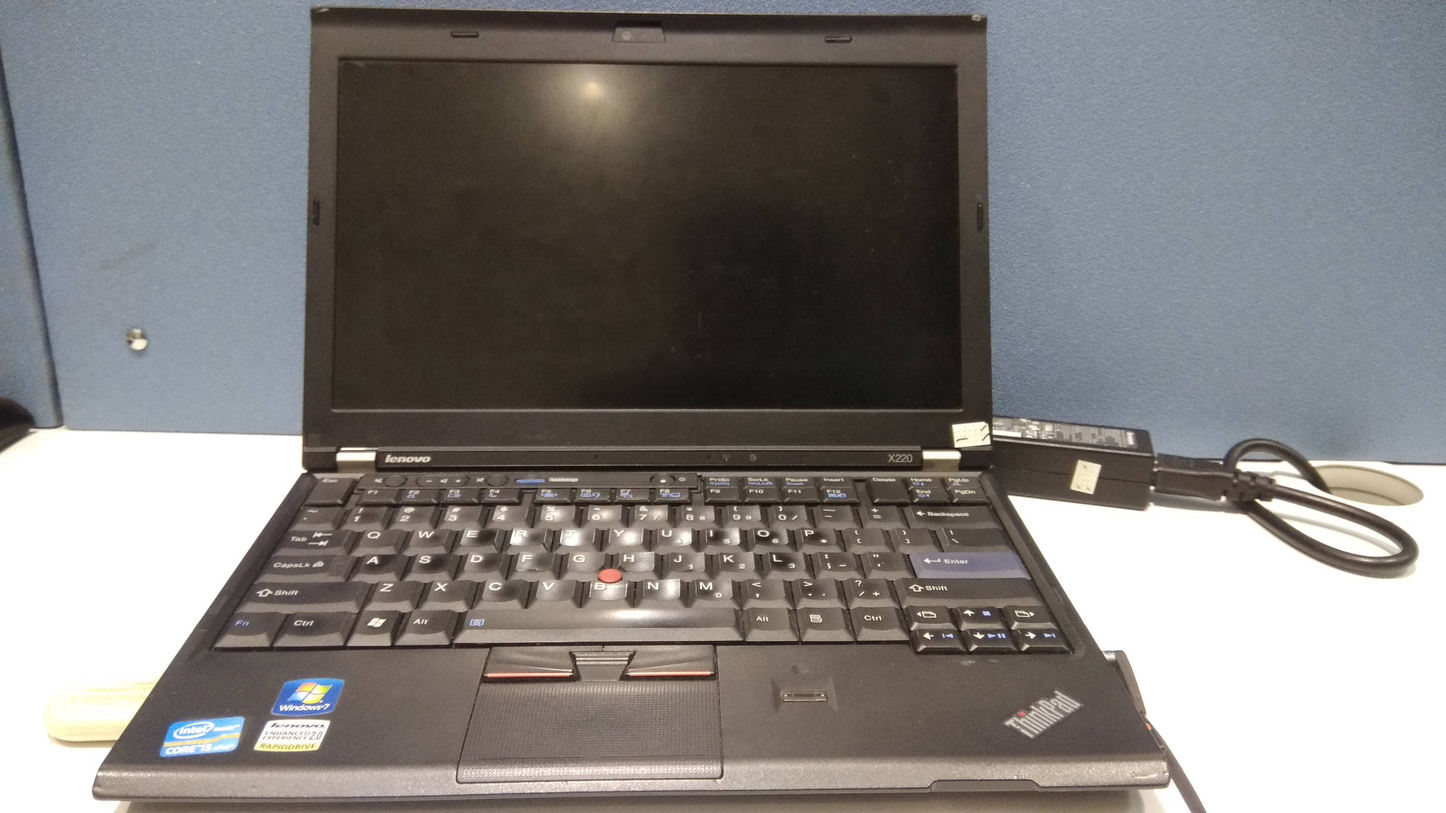Electronics: (91, 3, 1184, 813)
